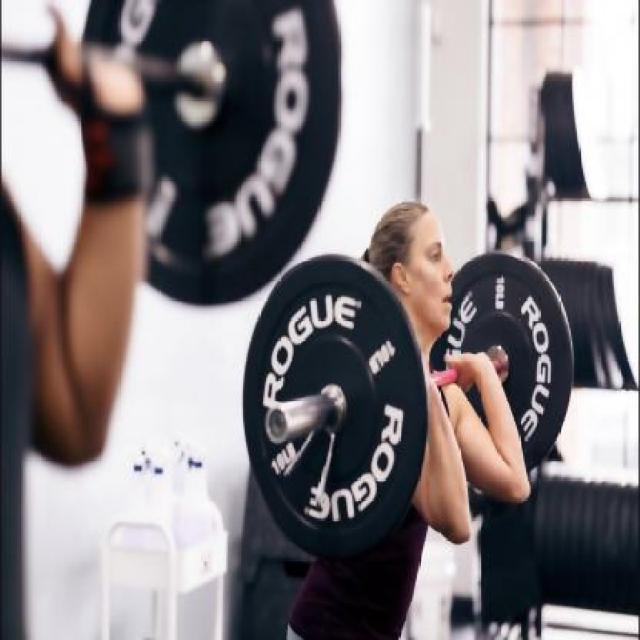Barbell: (264, 404, 292, 448)
